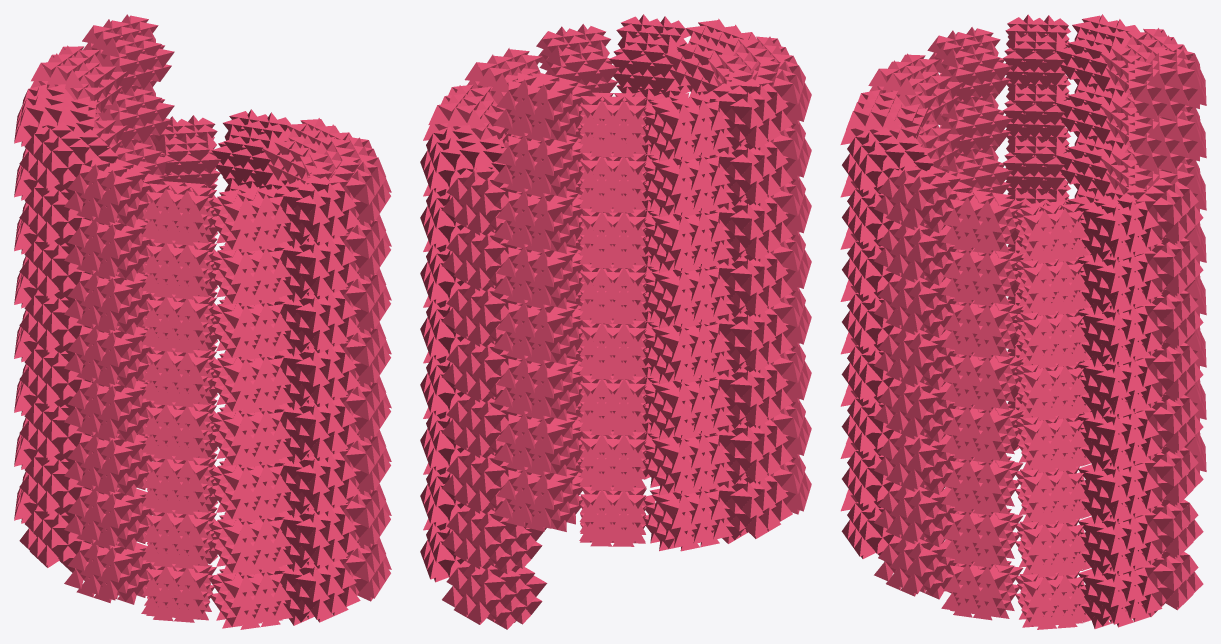
The model's file is customMassing_Microtubule_240712.fbx.
3 views of the same model, side by side, from view 1: azimuth 30°, elevation 25°; view 2: azimuth 150°, elevation 25°; view 3: azimuth 270°, elevation 25° (orthographic). The views are drawn at different scales.
Parts seen in each view (by area): view 1: Microtubule_ForExport; view 2: Microtubule_ForExport; view 3: Microtubule_ForExport.
Boxes of the visible parts, x1,y1,x2,y2 form: Microtubule_ForExport: (14, 14, 391, 629); Microtubule_ForExport: (420, 14, 811, 629); Microtubule_ForExport: (840, 14, 1206, 629).
Bounding box in the file's own units: 28368 × 45301 × 28243.
